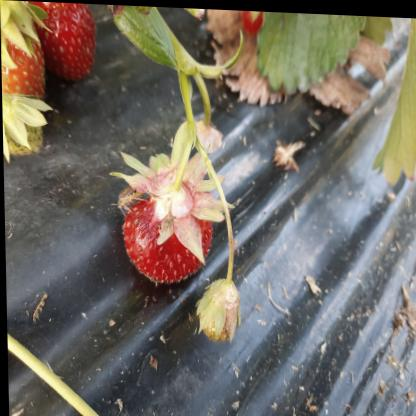ripe: (118, 177, 213, 283), (32, 1, 106, 76), (1, 21, 46, 113), (234, 8, 271, 35)
unripe: (199, 276, 238, 341)
